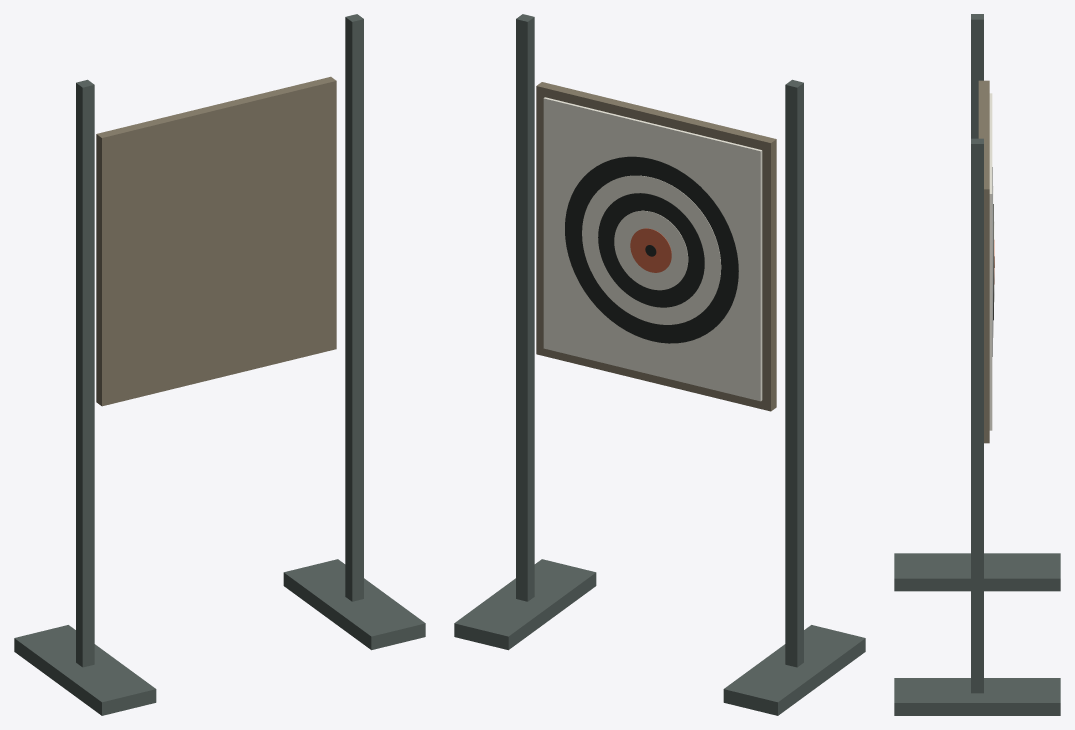
Rendered from target_paper.glb.
The picture shows the model from 3 angles, left to right: view 1: azimuth 30°, elevation 25°; view 2: azimuth 150°, elevation 25°; view 3: azimuth 270°, elevation 25°; orthographic projection. The views are drawn at different scales.
Visible parts, largest first — view 1: backing, static_batch_1_0; view 2: static_batch_1_0, hit_surface, static_batch_2_2, backing, static_batch_2_1, score_ring_4; view 3: static_batch_1_0, backing, hit_surface, static_batch_2_2.
Part boxes in pixels (x1,y1,x2,y2): backing: [96, 76, 336, 406]; static_batch_1_0: [14, 14, 425, 715]; static_batch_1_0: [454, 14, 865, 715]; hit_surface: [543, 97, 762, 401]; static_batch_2_2: [565, 156, 738, 343]; backing: [536, 82, 776, 411]; static_batch_2_1: [582, 175, 721, 324]; score_ring_4: [630, 228, 671, 272]; static_batch_1_0: [894, 14, 1060, 715]; backing: [978, 80, 989, 443]; hit_surface: [989, 93, 992, 430]; static_batch_2_2: [992, 167, 994, 356].
Bounding box in the file's own units: 1.49 × 2.61 × 0.7.
